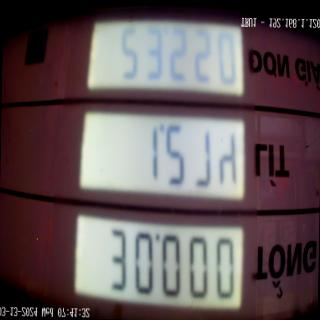screen: (69, 5, 254, 318)
